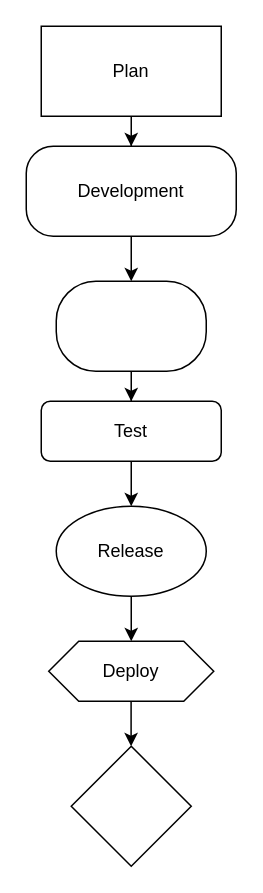
Some shapes in this 263 by 893 pixel diagram are drawn without their labels. The centre of each missing label's shape, as x and y in pixels:
Build: the point at 130,325
Operate: the point at 130,805
